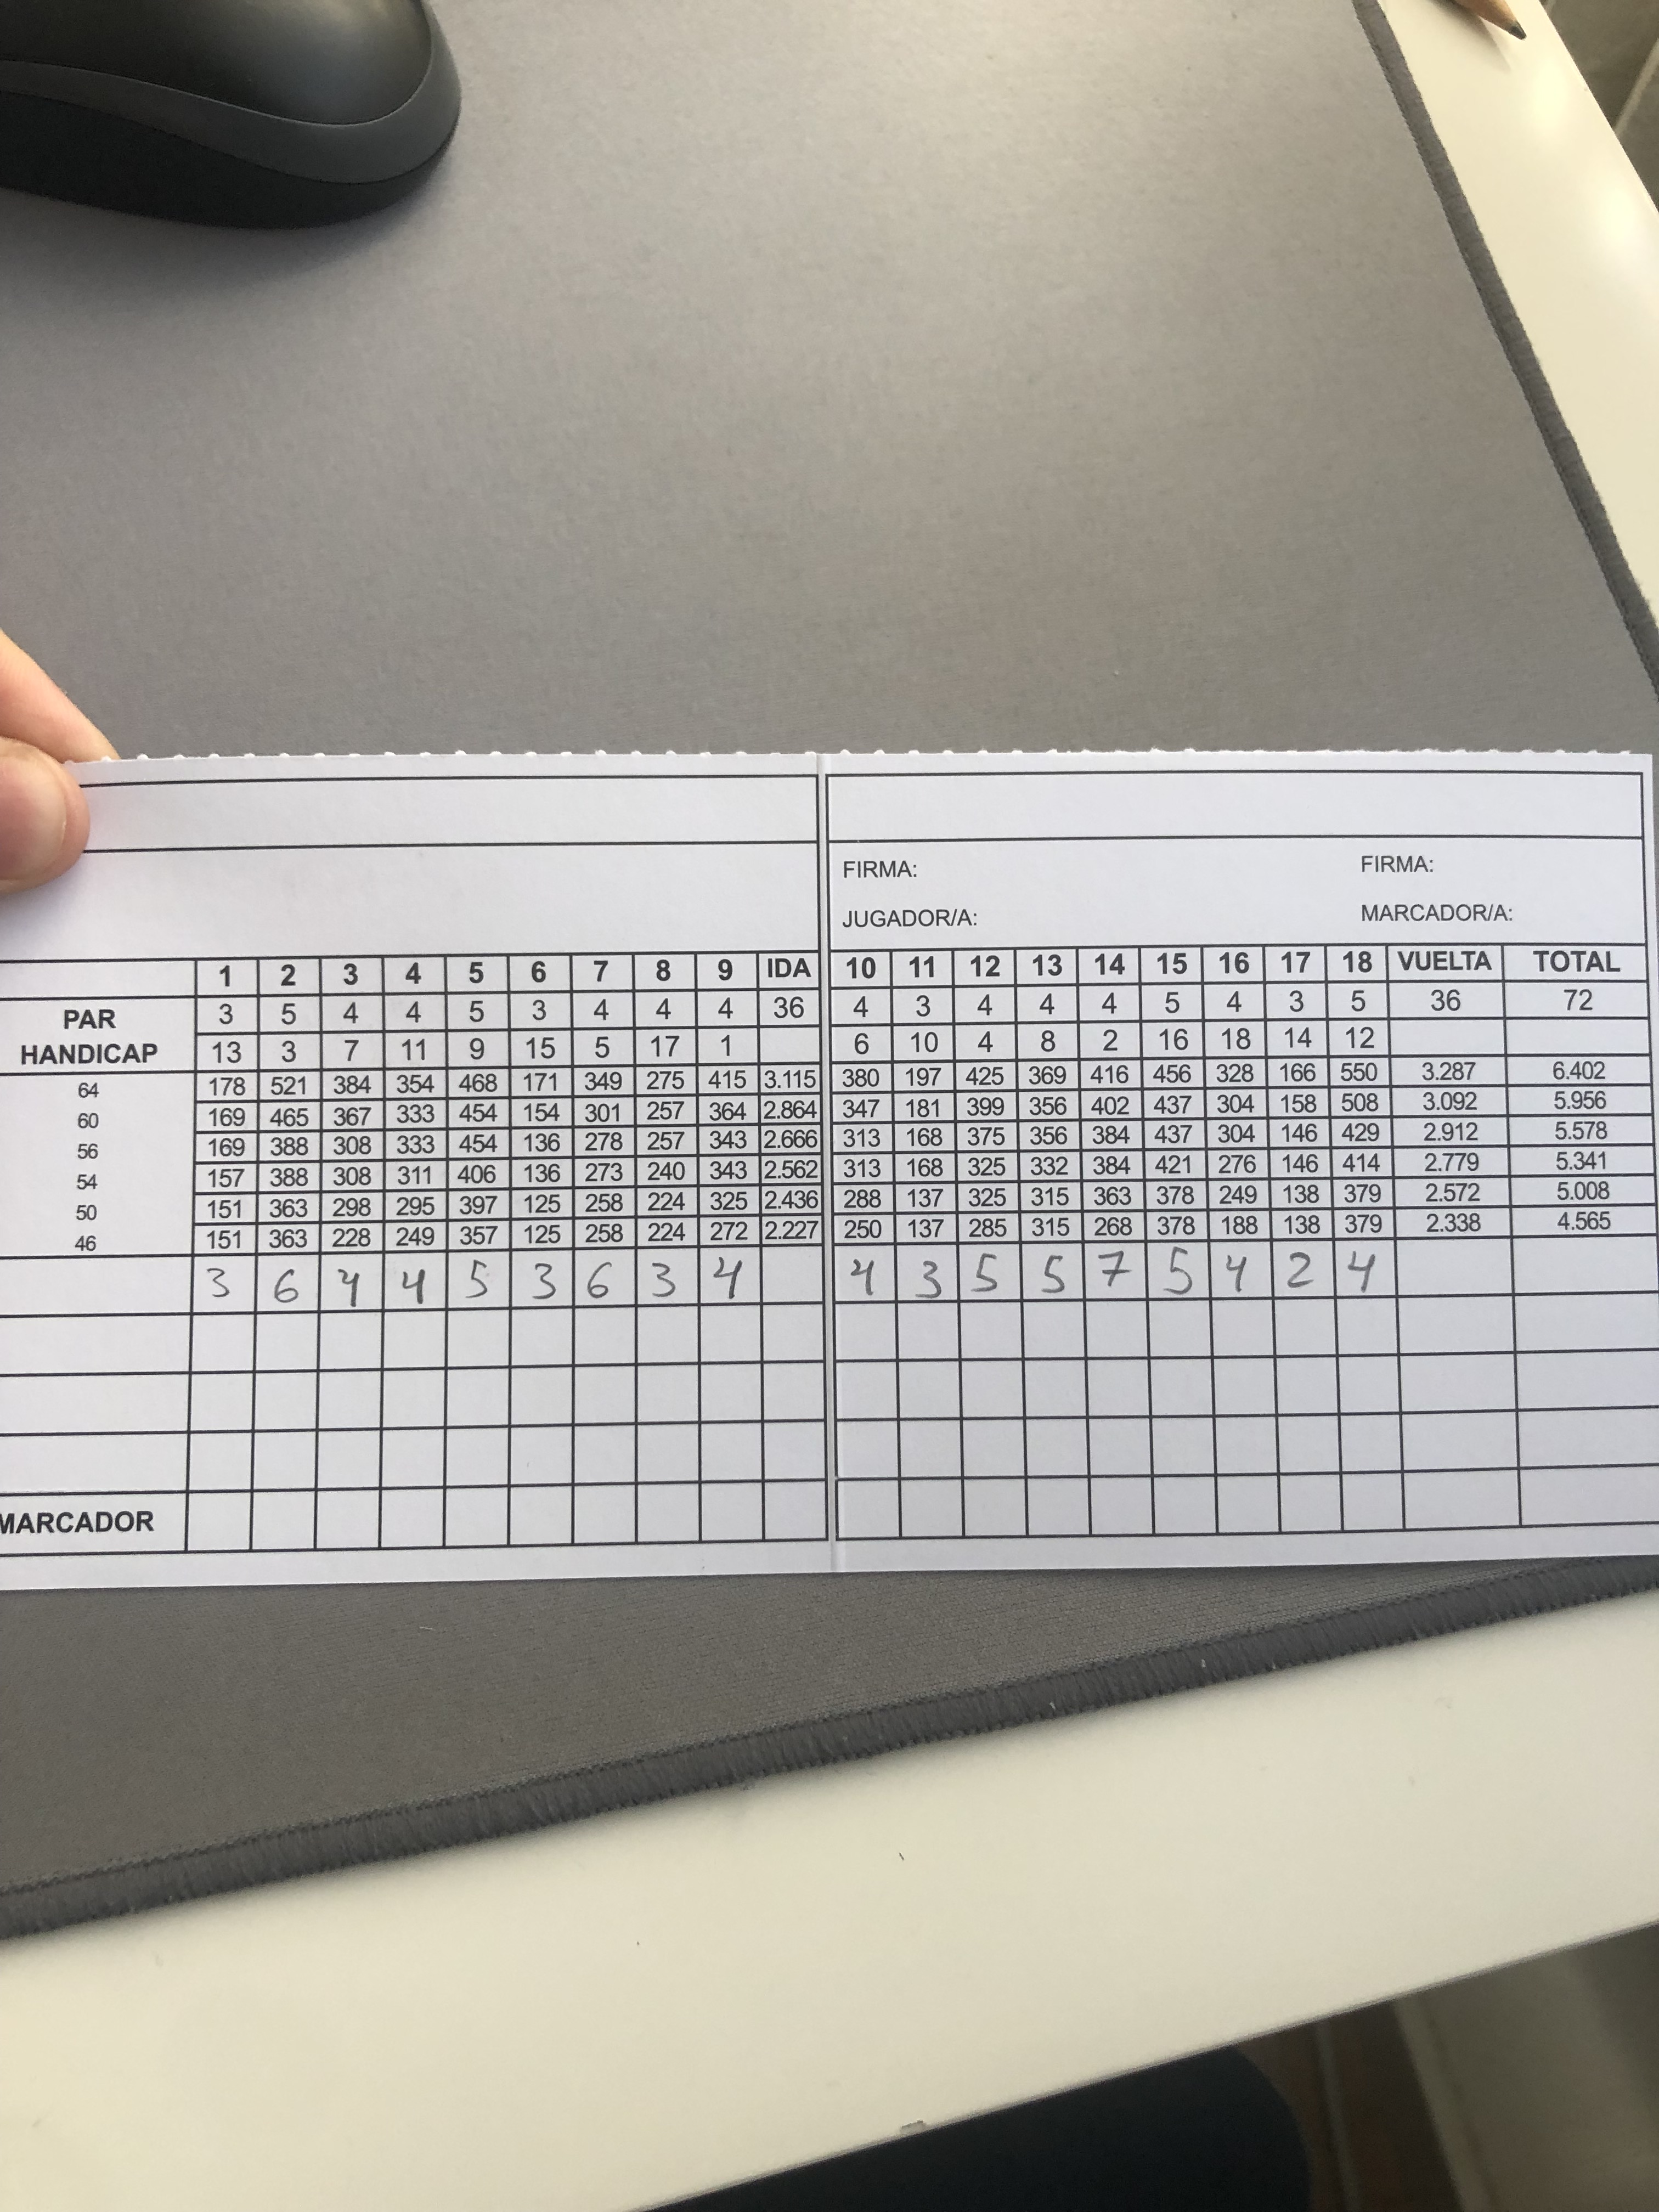par: (24, 988, 1631, 1029)
score: (178, 1249, 1399, 1310)
